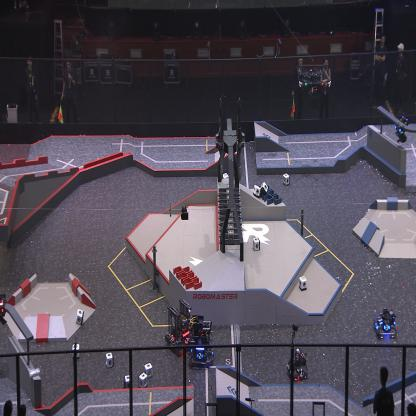car: (164, 298, 192, 354), (187, 315, 215, 370), (374, 307, 398, 340), (286, 348, 308, 383)
